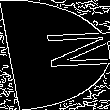N_W: (6, 33, 104, 77)
